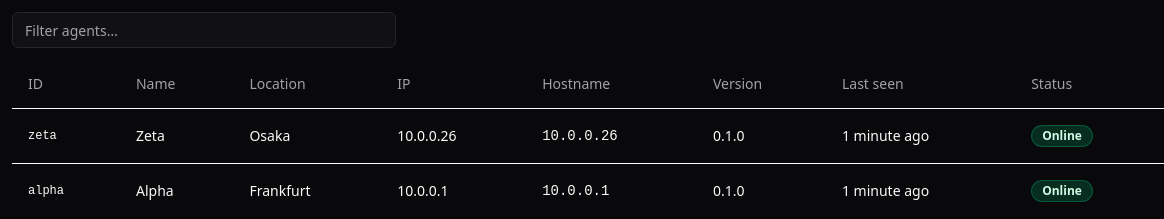
Test case: AgentsTable › filtering › typing in filter input narrows rows by id
Type "alpha" into the field labelled "Filter agents…" at (204, 30), box [12,12,396,48]
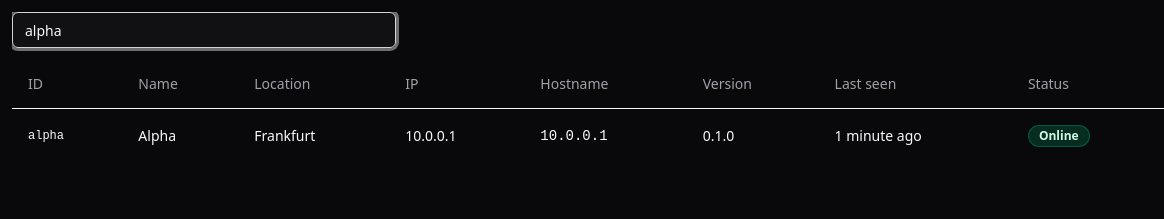
Expected: the text "alpha" is shown, [12,108,122,162]
Expected: the link "zeta" is gone
